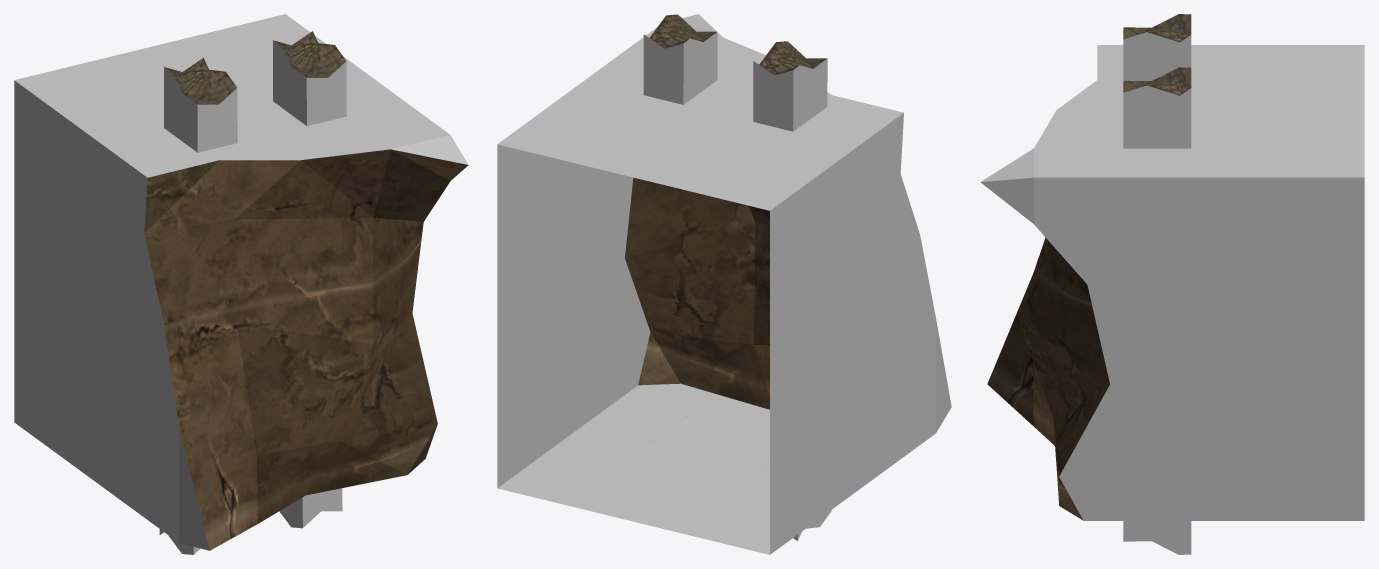
Rendered from A_shidun01_posun02.fbx.
3 views of the same model, side by side, from view 1: azimuth 30°, elevation 25°; view 2: azimuth 150°, elevation 25°; view 3: azimuth 270°, elevation 25° (orthographic).
Visible parts, largest first — view 1: A_shidun01_posun02; view 2: A_shidun01_posun02; view 3: A_shidun01_posun02.
Boxes of the visible parts, box(x1,y1,x2,y2) form: A_shidun01_posun02: box(14, 14, 468, 554); A_shidun01_posun02: box(497, 14, 951, 554); A_shidun01_posun02: box(980, 14, 1364, 554).
Bounding box in the file's own units: 113 × 187 × 138.
